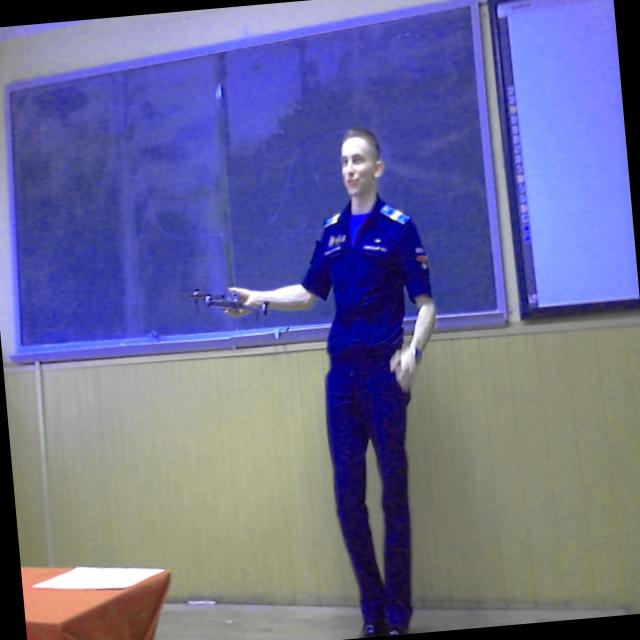drone: (176, 264, 282, 334)
